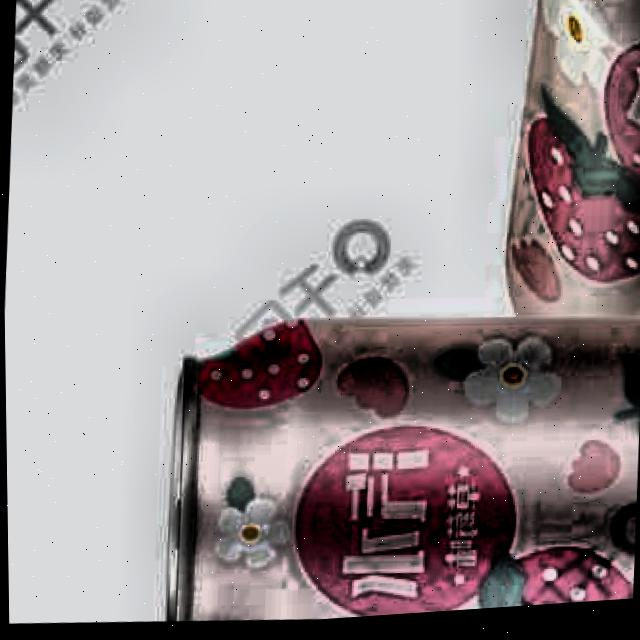metal: (145, 284, 640, 633), (482, 0, 640, 409)
